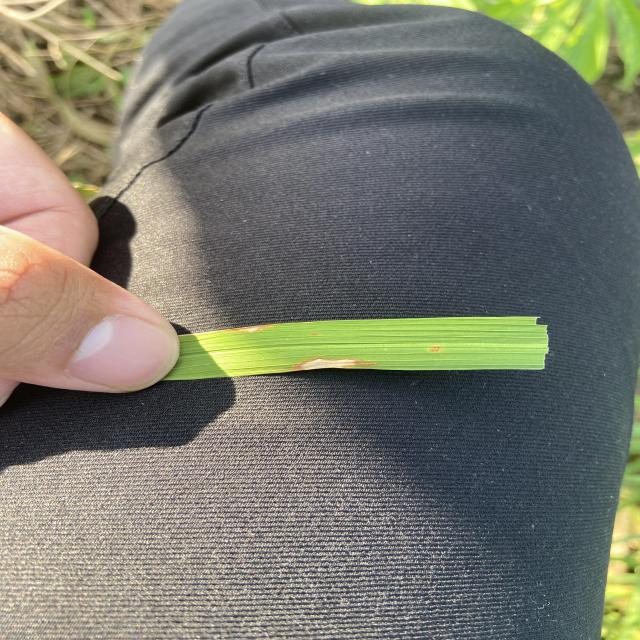Dao on: (292, 358, 373, 371), (229, 325, 274, 332), (431, 346, 441, 352)
